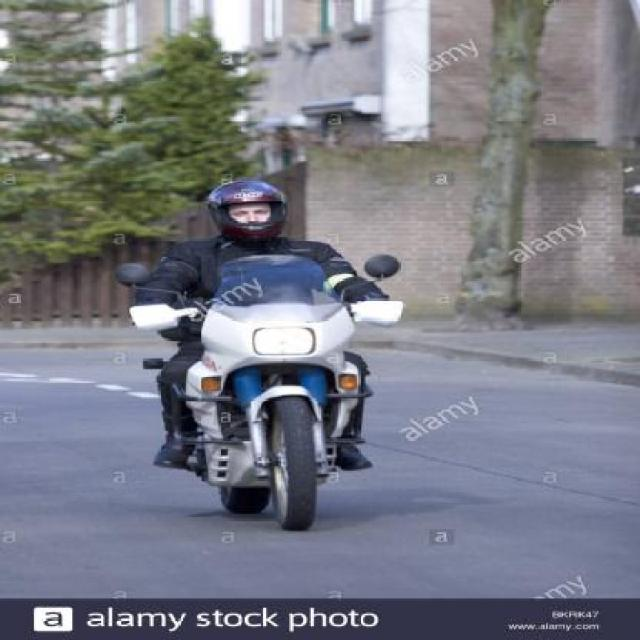helmet: (206, 176, 294, 249)
motorcycle: (115, 171, 422, 543)
